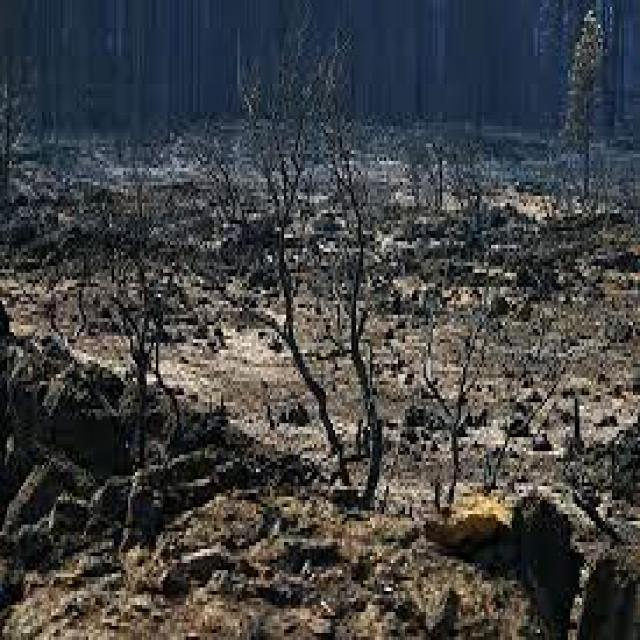Forest Fire: (117, 171, 557, 527)
